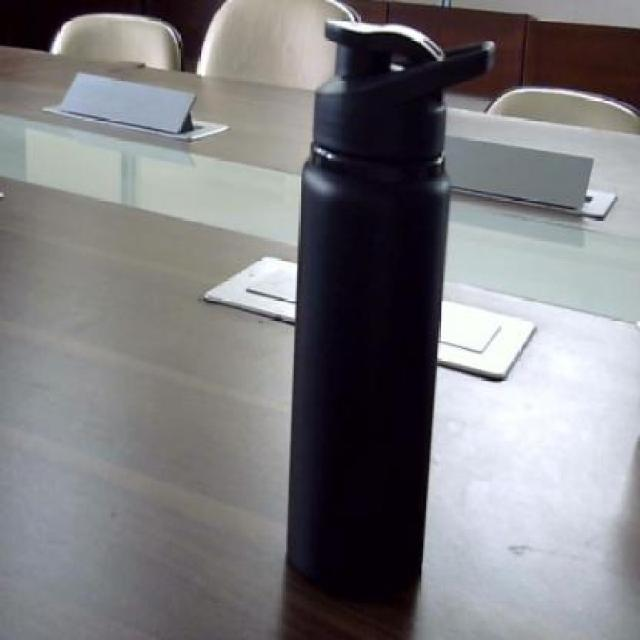Metal: (280, 147, 457, 618)
